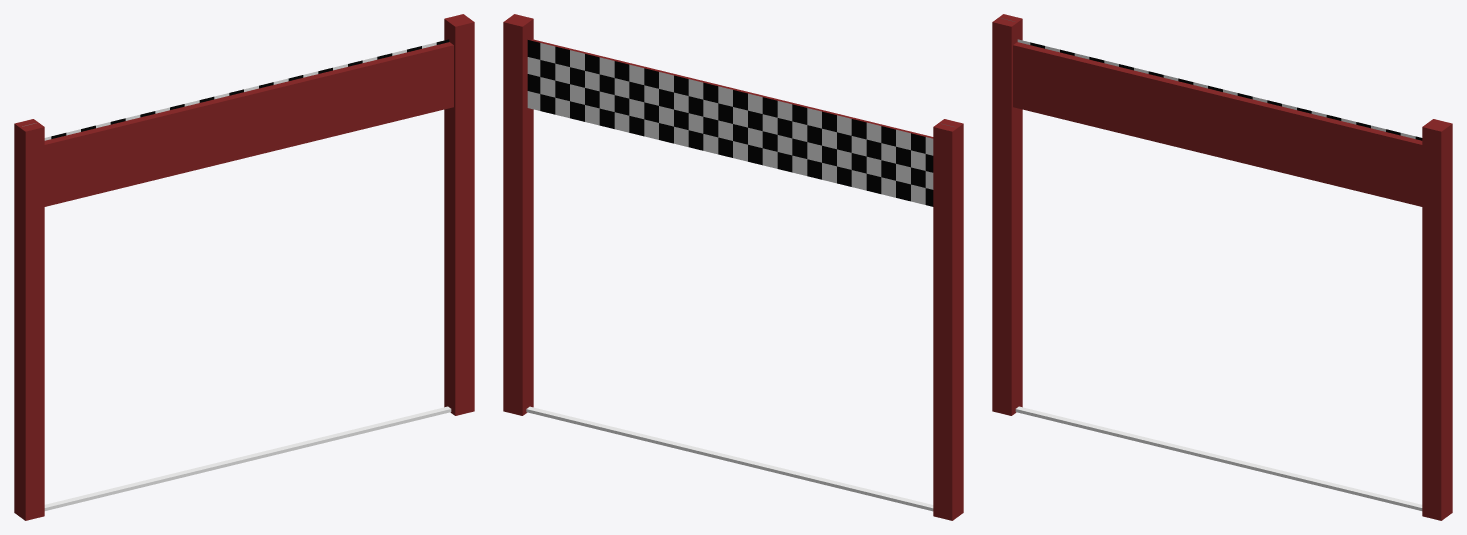
The model's file is finish_Line.fbx.
3 renders of one model, left to right at view 1: azimuth 30°, elevation 25°; view 2: azimuth 150°, elevation 25°; view 3: azimuth 330°, elevation 25°, orthographic.
Parts seen in each view (by area): view 1: pCube5, pCube4, pCube3, pCube6, polySurface881; view 2: polySurface881, pCube4, pCube3, pCube6, pCube5; view 3: pCube5, pCube3, pCube4, pCube6, polySurface881.
Boxes of the visible parts, x1=… form: pCube5: x1=44, y1=42, x2=453, y2=206; pCube4: x1=14, y1=119, x2=44, y2=520; pCube3: x1=444, y1=14, x2=474, y2=415; pCube6: x1=44, y1=406, x2=451, y2=510; polySurface881: x1=22, y1=39, x2=449, y2=140; polySurface881: x1=527, y1=40, x2=953, y2=206; pCube4: x1=933, y1=119, x2=963, y2=520; pCube3: x1=503, y1=14, x2=533, y2=415; pCube6: x1=526, y1=406, x2=933, y2=511; pCube5: x1=531, y1=39, x2=933, y2=138; pCube5: x1=1013, y1=42, x2=1422, y2=206; pCube3: x1=1422, y1=119, x2=1452, y2=520; pCube4: x1=992, y1=14, x2=1022, y2=415; pCube6: x1=1015, y1=406, x2=1422, y2=510; polySurface881: x1=1001, y1=18, x2=1422, y2=140.
Size of the model in its own units: 30.31 by 25.12 by 1.3.
